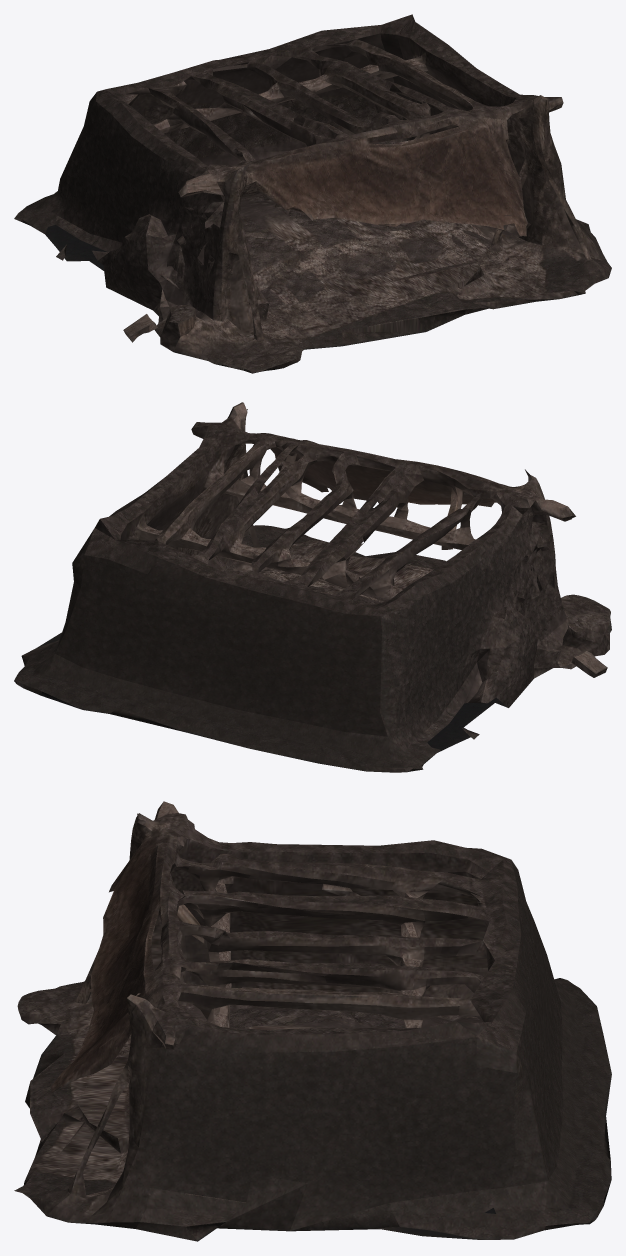
File: b3-shelter.glb
3 views of the same model, one above another, from view 1: azimuth 30°, elevation 25°; view 2: azimuth 150°, elevation 25°; view 3: azimuth 270°, elevation 25° (orthographic). The views are drawn at different scales.
Size of the model in its own units: 1.87 by 0.6509 by 1.68.
1 material, 1 textured.
